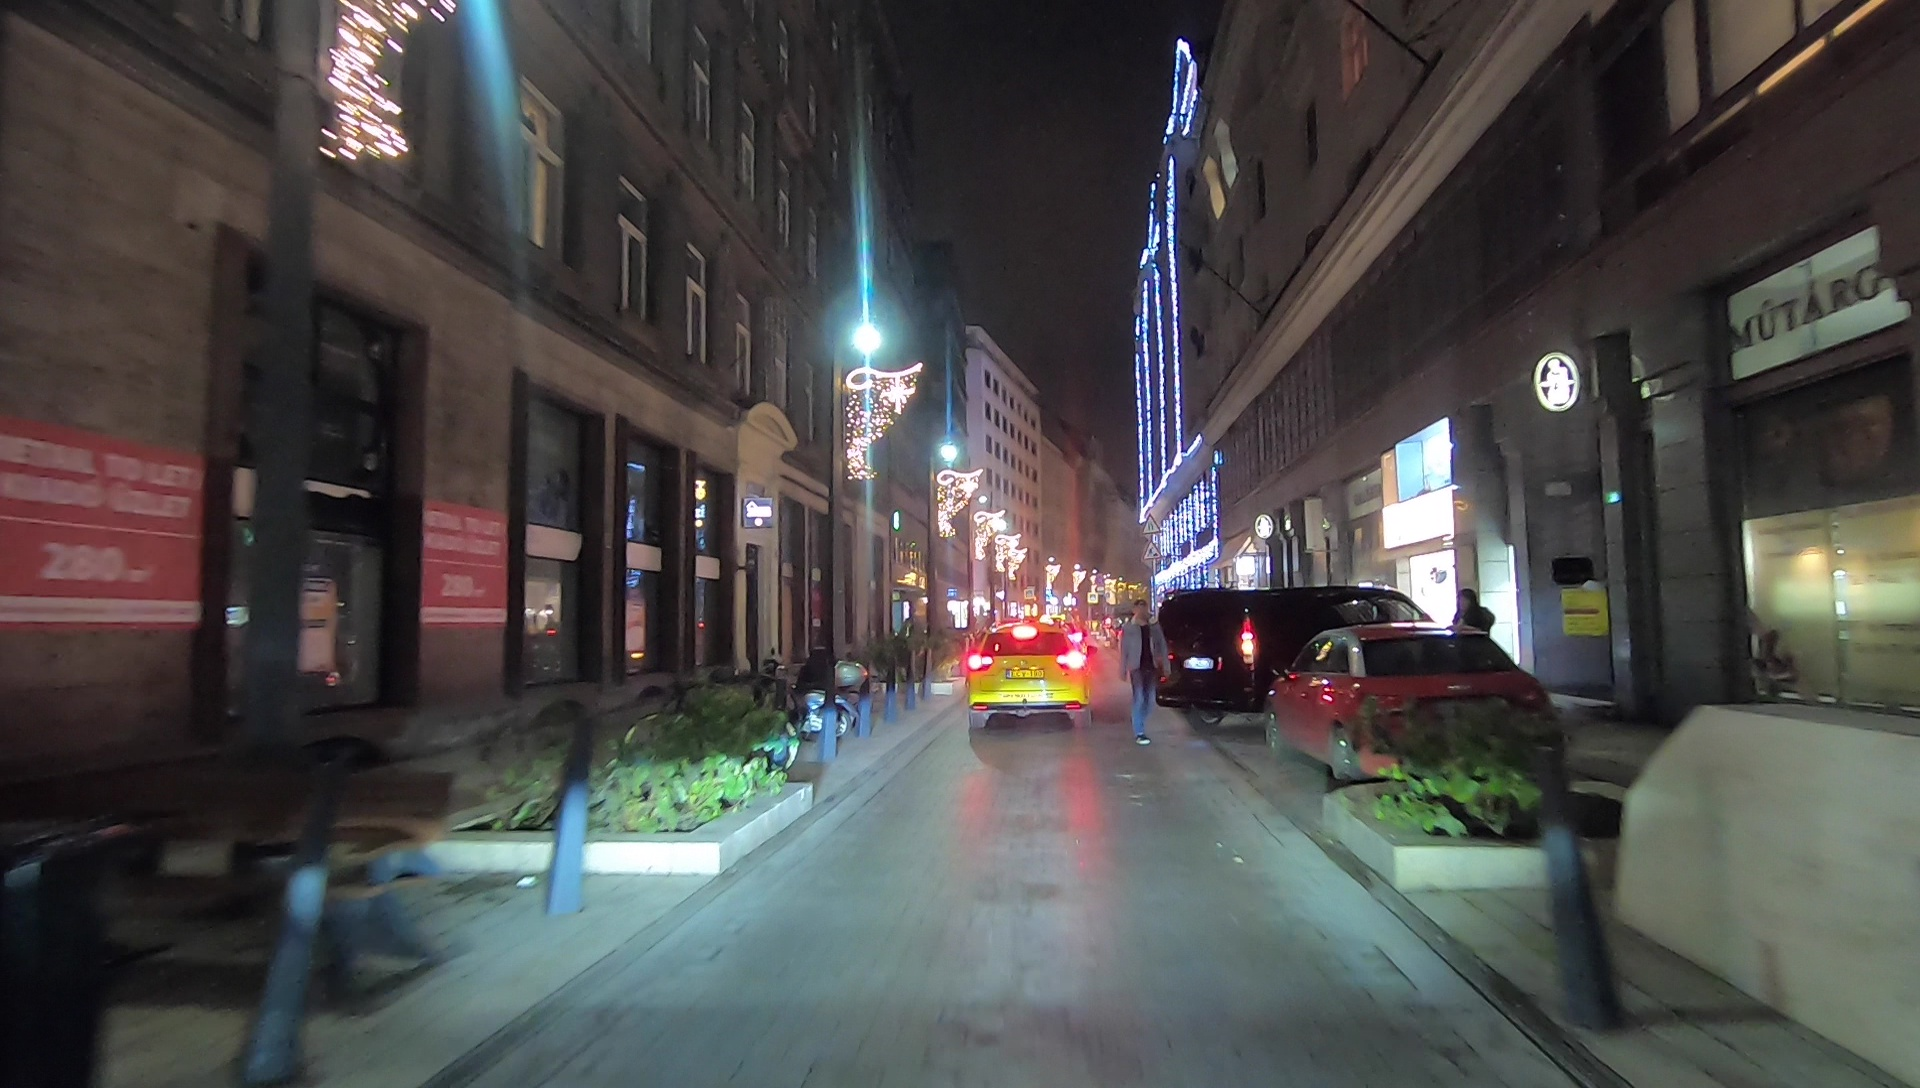person: (1119, 599, 1168, 747), (1450, 588, 1497, 705)
